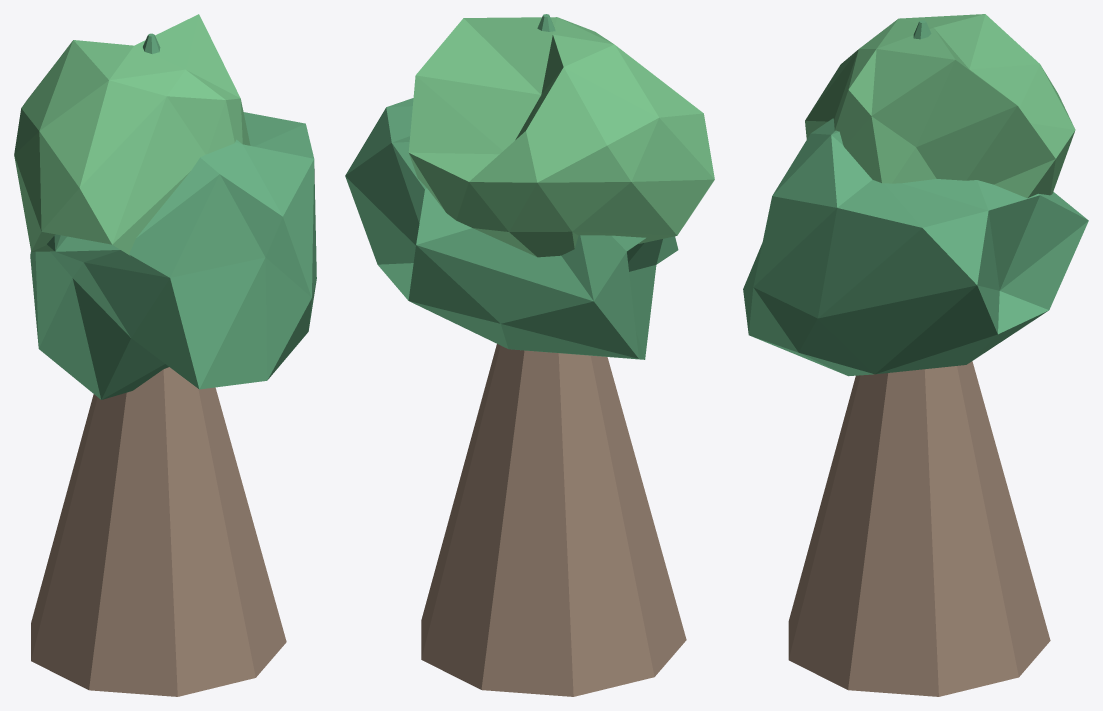
The model's file is ASTX_VEG_CANOPY_B.glb.
The picture shows the model from 3 angles, left to right: view 1: azimuth 30°, elevation 25°; view 2: azimuth 150°, elevation 25°; view 3: azimuth 270°, elevation 25°; orthographic projection. The views are drawn at different scales.
Visible parts, largest first — view 1: ASTX_VEG_CANOPY_B_trunk, ASTX_VEG_CANOPY_B_massLow, ASTX_VEG_CANOPY_B_massTop; view 2: ASTX_VEG_CANOPY_B_trunk, ASTX_VEG_CANOPY_B_massTop, ASTX_VEG_CANOPY_B_massLow; view 3: ASTX_VEG_CANOPY_B_trunk, ASTX_VEG_CANOPY_B_massLow, ASTX_VEG_CANOPY_B_massTop.
Boxes of the visible parts, x1,y1,x2,y2 form: ASTX_VEG_CANOPY_B_trunk: (31,367,286,696); ASTX_VEG_CANOPY_B_massLow: (30,112,316,399); ASTX_VEG_CANOPY_B_massTop: (14,14,250,255); ASTX_VEG_CANOPY_B_trunk: (421,344,686,696); ASTX_VEG_CANOPY_B_massTop: (408,17,714,257); ASTX_VEG_CANOPY_B_massLow: (345,98,678,359); ASTX_VEG_CANOPY_B_trunk: (788,361,1050,696); ASTX_VEG_CANOPY_B_massLow: (743,118,1088,376); ASTX_VEG_CANOPY_B_massTop: (805,14,1075,198).
Bounding box in the file's own units: 5.04 × 9.6 × 4.86.
